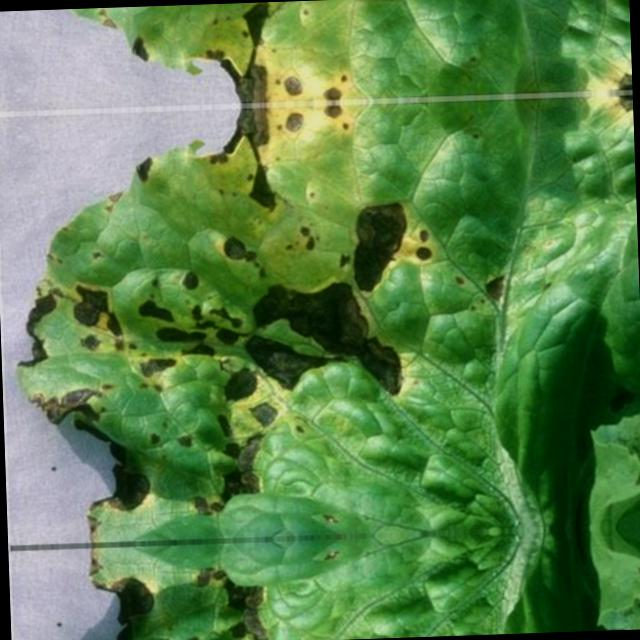Lettuce - Anthracnose: (7, 90, 640, 547), (22, 524, 640, 640), (3, 0, 631, 113)
